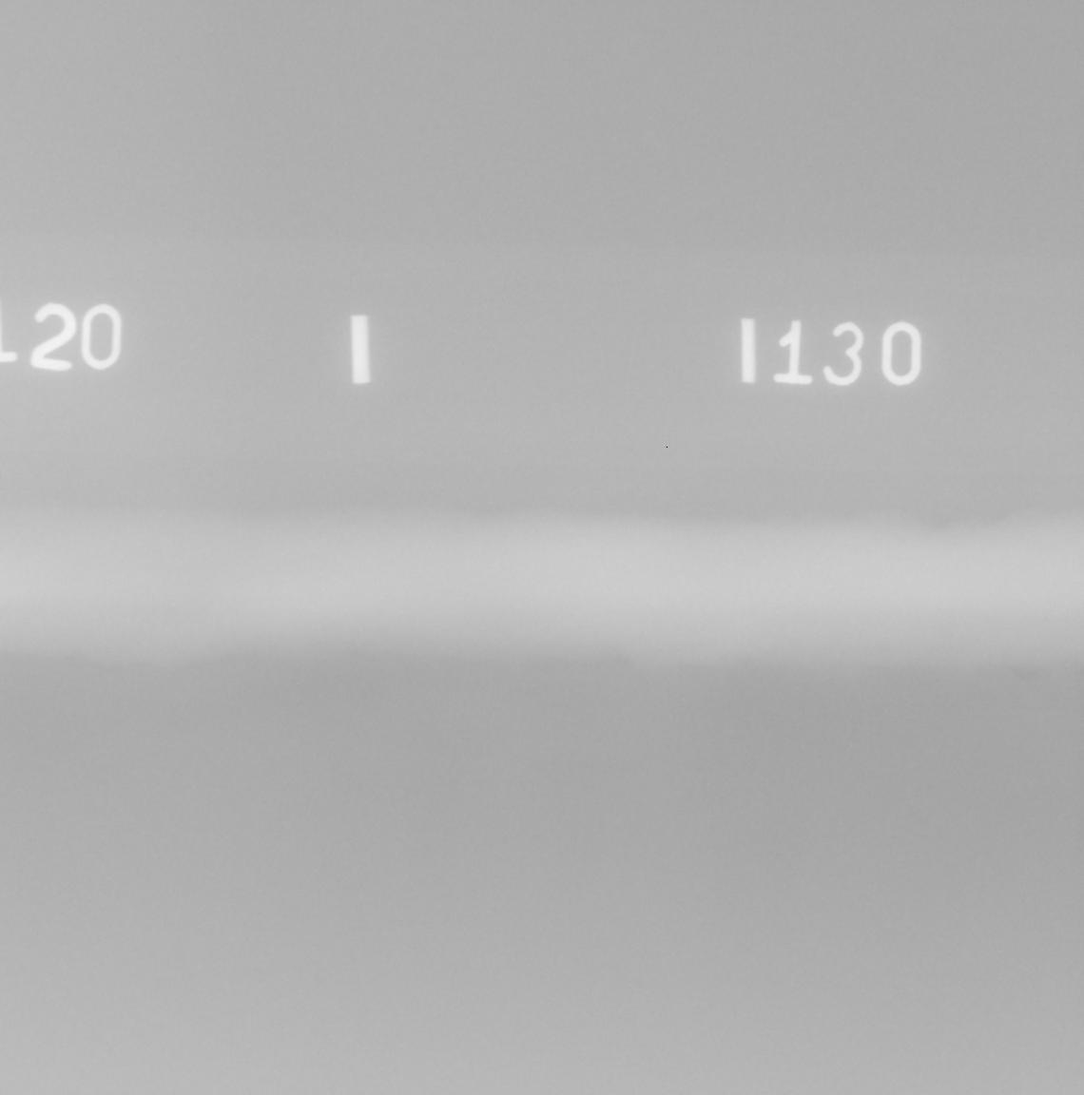Undercut: (1016, 671, 1035, 680)
